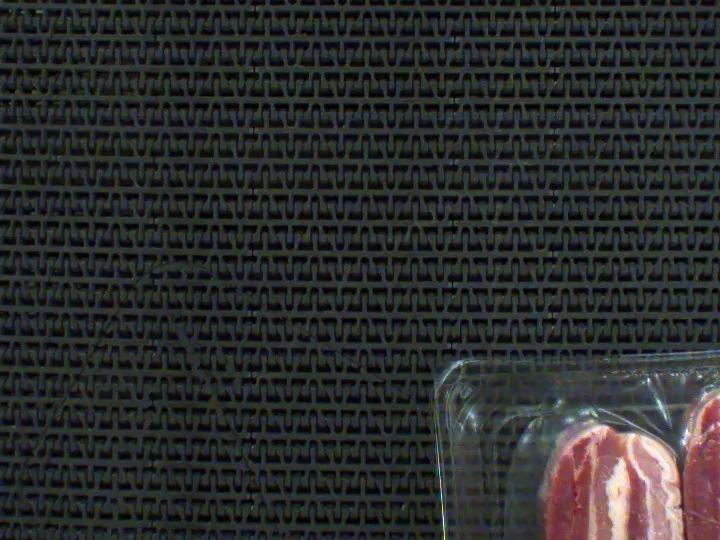unsealed: (480, 355, 720, 540)
